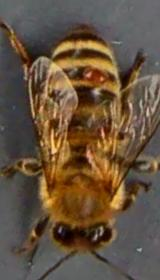varroa_mite: (76, 57, 112, 91)
